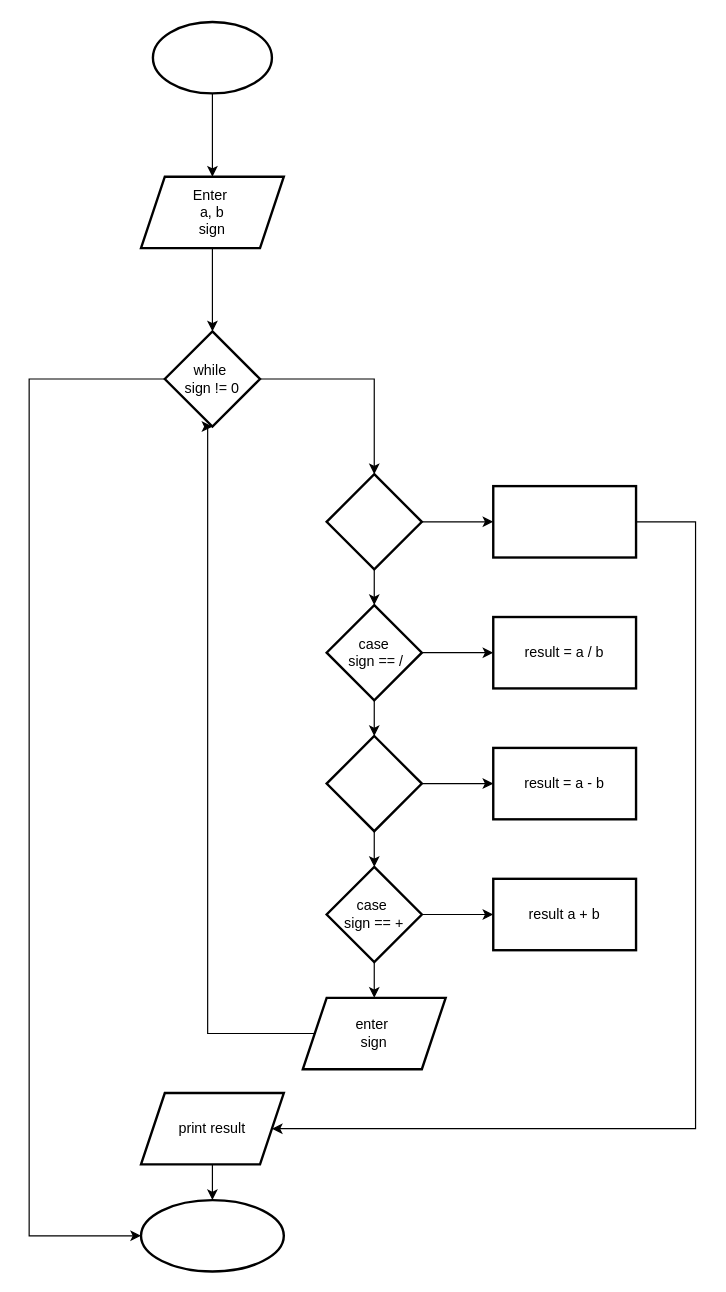
Some shapes in this 726 by 1292 pixel diagram are drawn without their labels. The centre of each missing label's shape, as x and y in pixels:
"case sign == *" goes at (x=373, y=521).
"case sign == -" goes at (x=373, y=783).
"end" goes at (x=211, y=1235).
"result = a * b" goes at (x=564, y=521).
